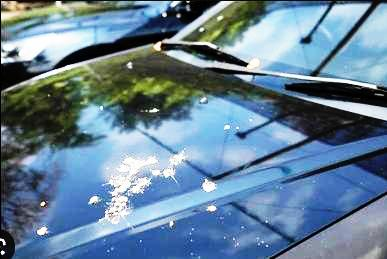Bird Poop: (98, 156, 158, 224), (151, 153, 183, 181), (163, 150, 184, 182), (203, 179, 215, 190), (247, 58, 259, 68), (37, 227, 46, 235), (88, 196, 98, 203), (208, 205, 216, 211), (126, 62, 132, 68), (153, 170, 160, 175), (40, 201, 46, 206), (149, 109, 159, 112), (224, 125, 229, 129)
